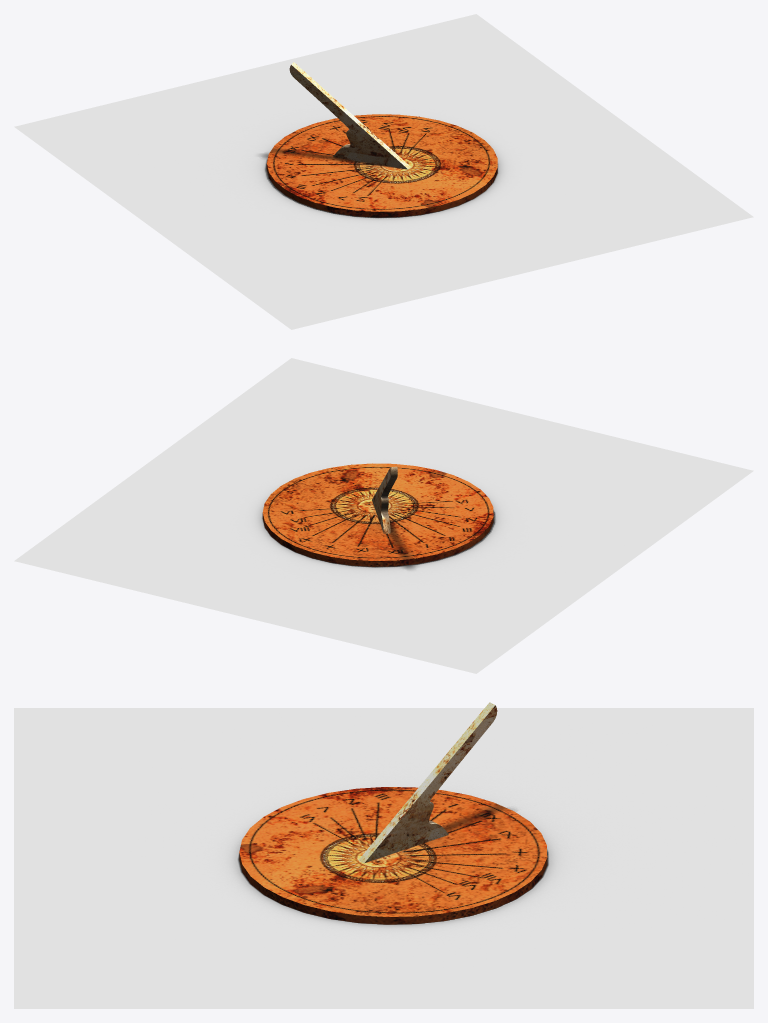
Rendered from reloj_sol.FBX.
The picture shows the model from 3 angles, top to bottom: view 1: azimuth 30°, elevation 25°; view 2: azimuth 150°, elevation 25°; view 3: azimuth 270°, elevation 25°; orthographic projection. The views are drawn at different scales.
Parts seen in each view (by area): view 1: Plane002; view 2: Plane002; view 3: Plane002.
Part boxes in pixels (x1,y1,x2,y2): Plane002: (14, 14, 753, 329); Plane002: (14, 358, 753, 673); Plane002: (14, 702, 753, 1008).
Bounding box in the file's own units: 153 × 159 × 28.91.
3 materials, 3 textured.
